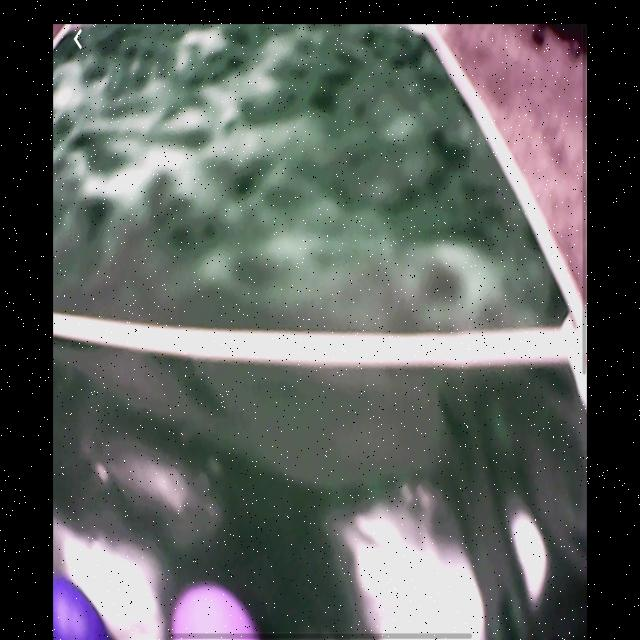ball: (171, 583, 262, 638), (54, 573, 114, 639)
